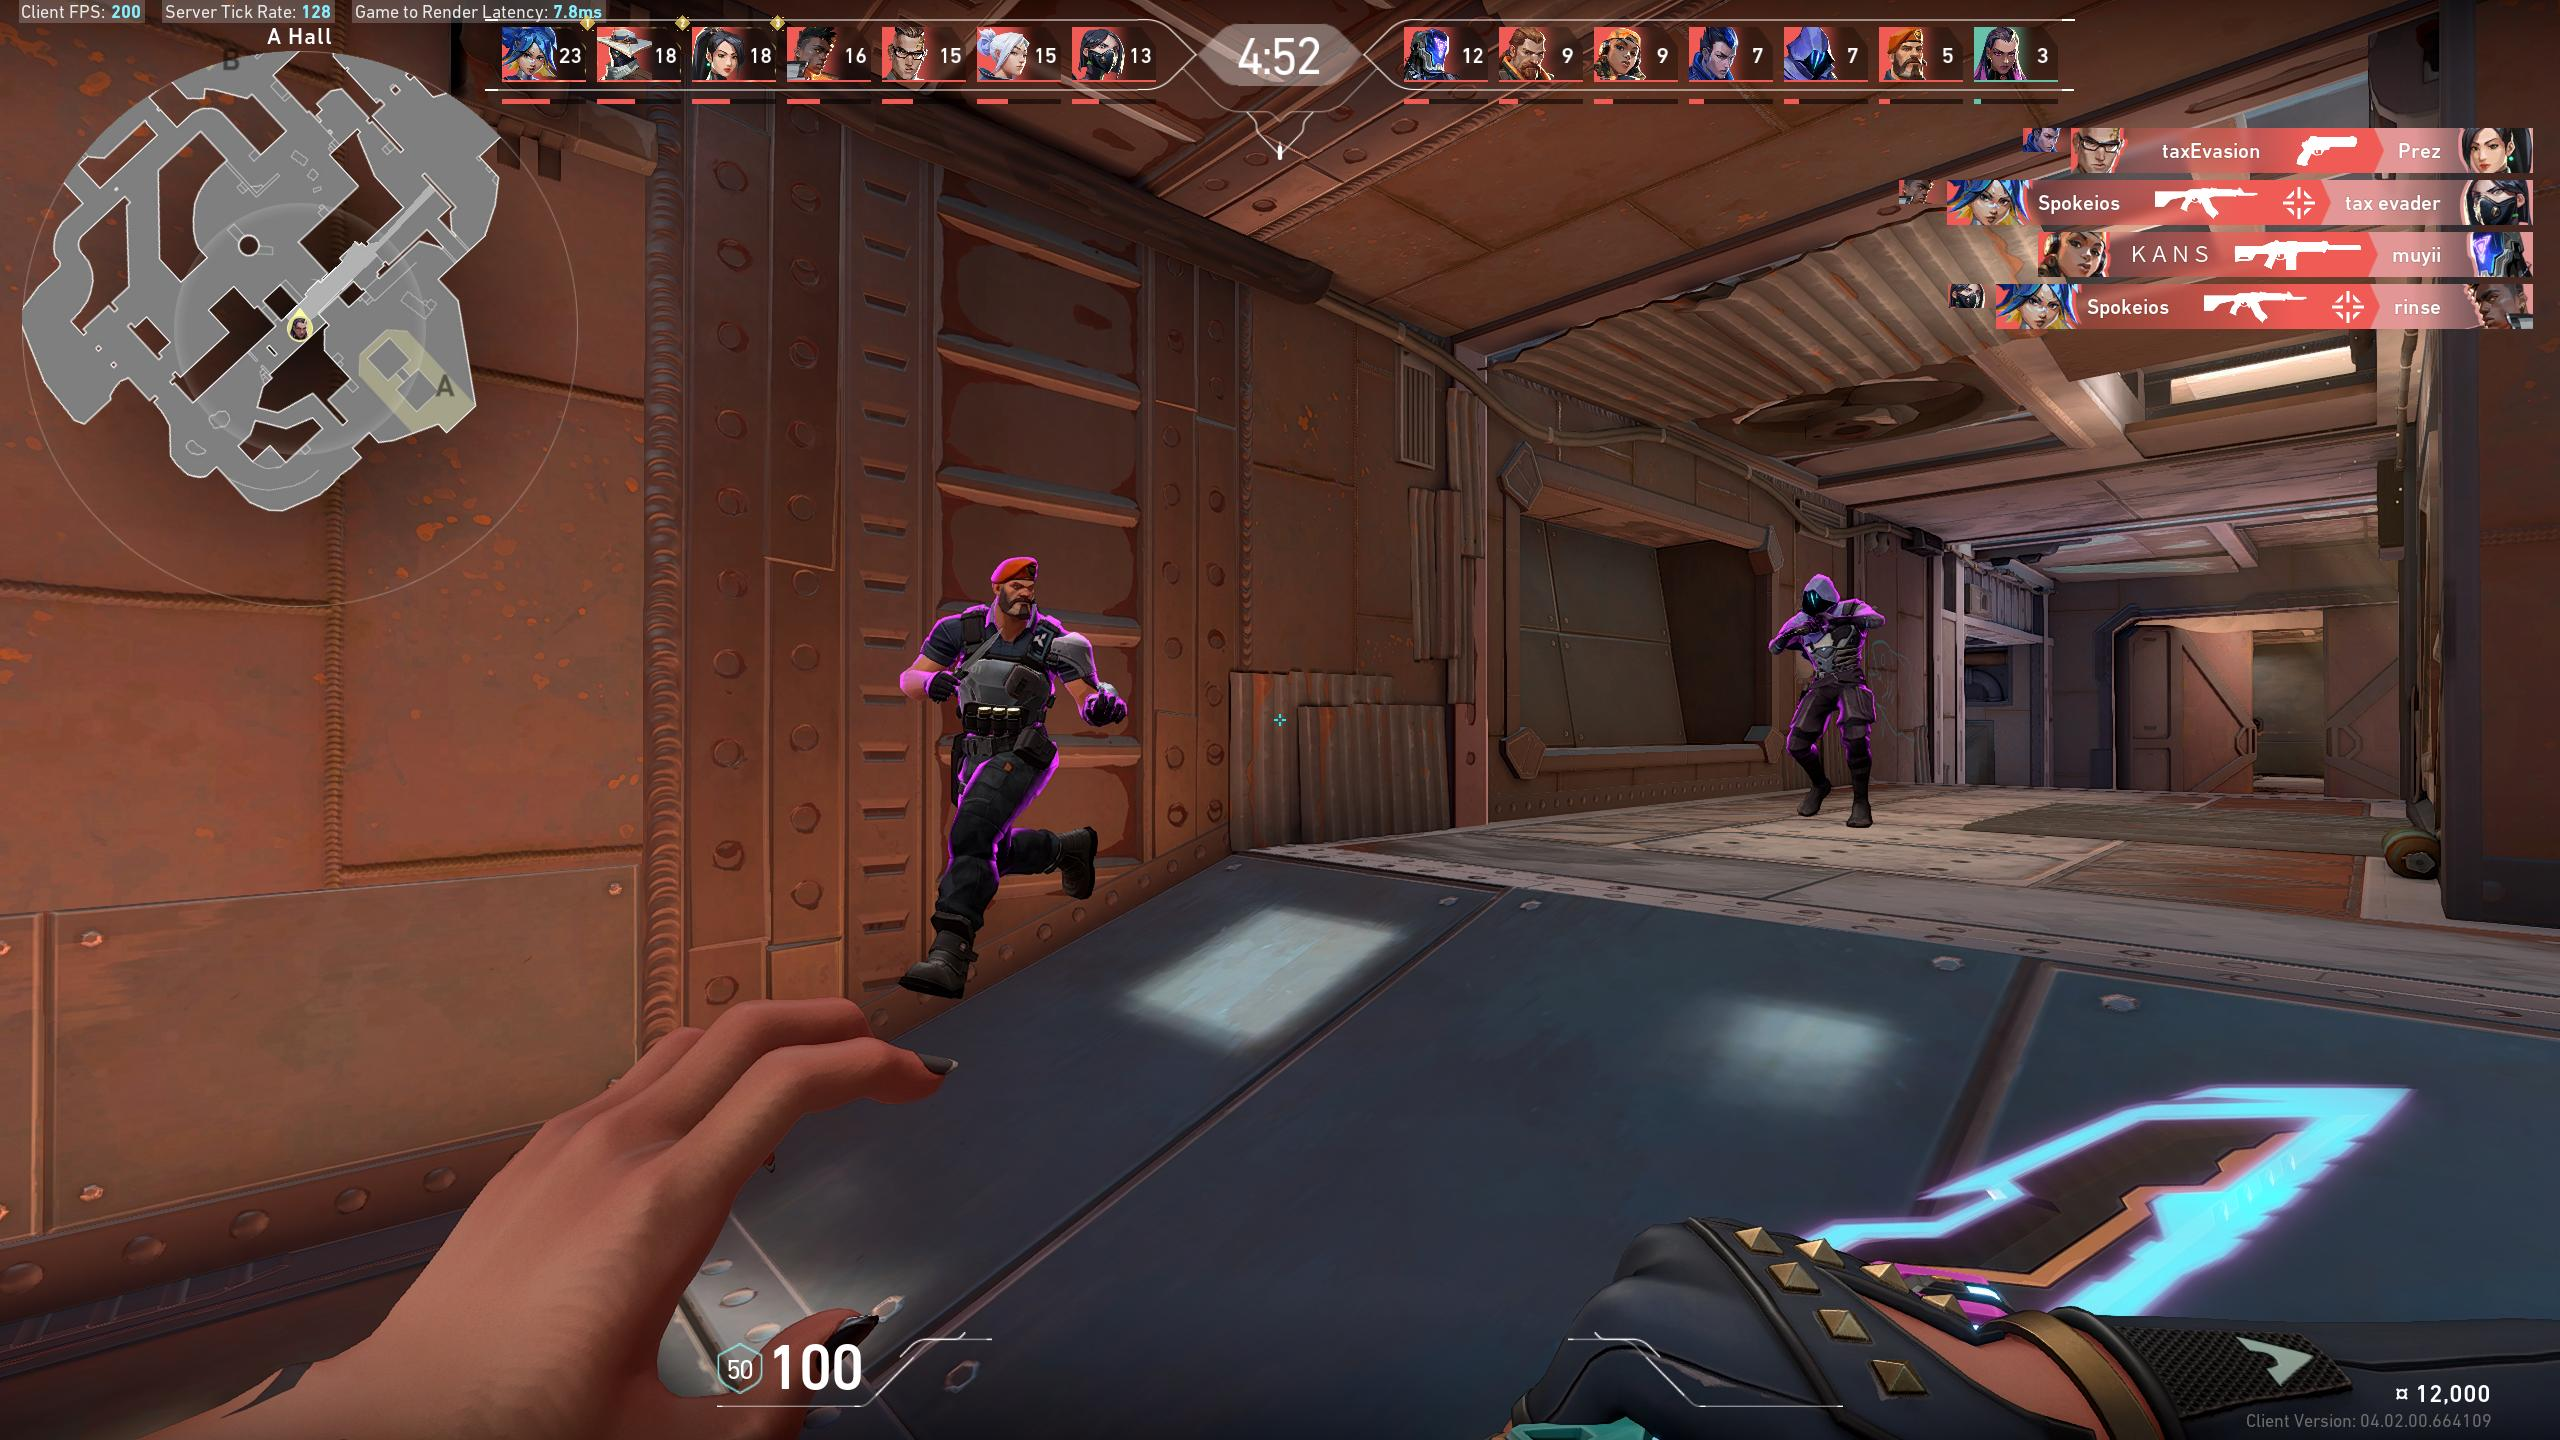enemyBody: (976, 636, 1034, 745), (1816, 617, 1853, 679)
enemyHead: (1002, 570, 1034, 617), (1806, 591, 1834, 608)
